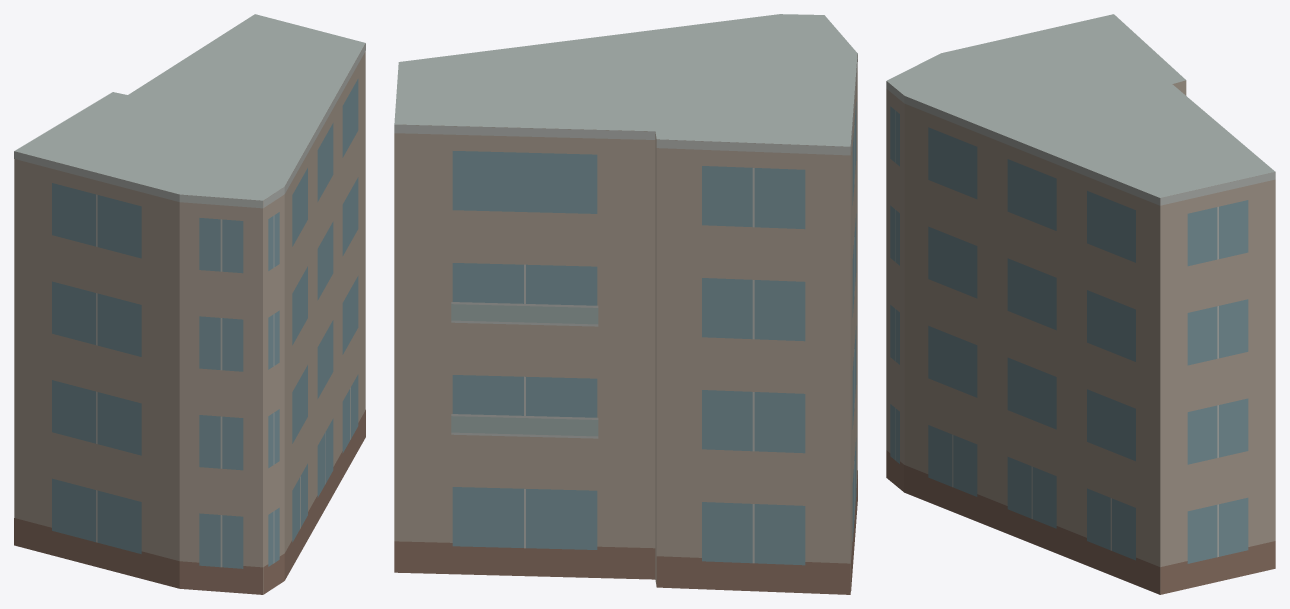
Rendered from survey-upis-32473420.glb.
3 renders of one model, left to right at view 1: azimuth 30°, elevation 25°; view 2: azimuth 150°, elevation 25°; view 3: azimuth 270°, elevation 25°, orthographic. The views are drawn at different scales.
Parts seen in each view (by area): view 1: survey-upis-32473420.tmp; view 2: survey-upis-32473420.tmp; view 3: survey-upis-32473420.tmp.
Boxes of the visible parts, x1,y1,x2,y2 form: survey-upis-32473420.tmp: (14,14,365,594); survey-upis-32473420.tmp: (394,14,857,594); survey-upis-32473420.tmp: (886,14,1275,594).
Bounding box in the file's own units: 12.44 × 12.5 × 11.12.
